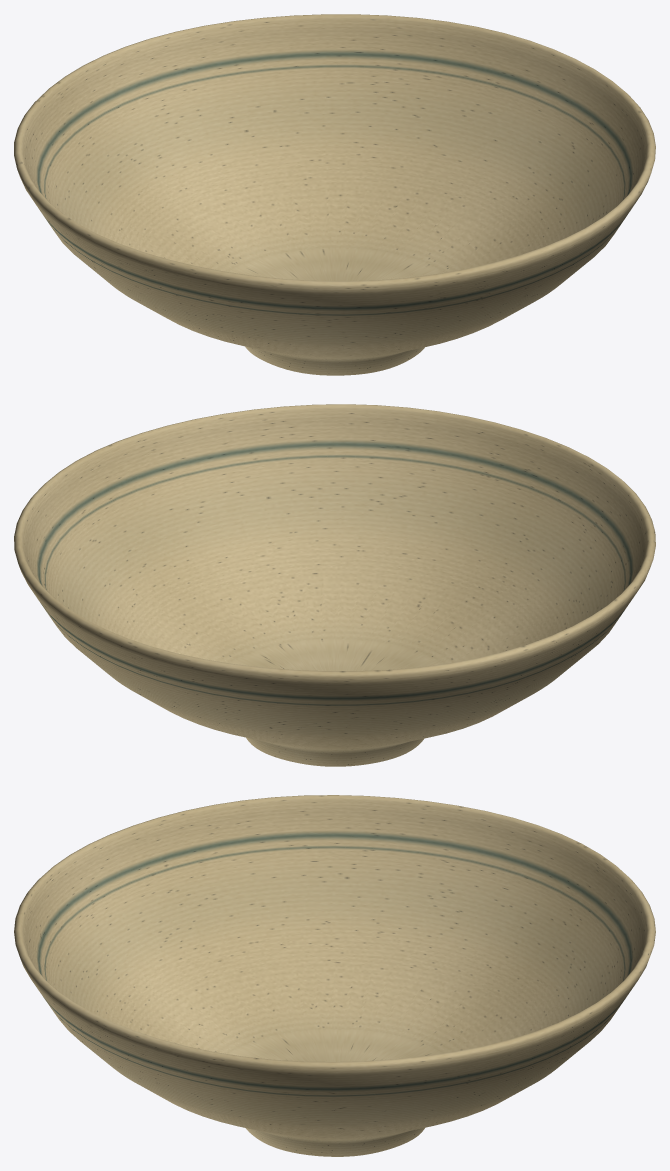
The model's file is B075HWDSDK.glb.
3 views of the same model, one above another, from view 1: azimuth 30°, elevation 25°; view 2: azimuth 150°, elevation 25°; view 3: azimuth 270°, elevation 25° (orthographic).
Visible parts, largest first — view 1: bowl 1; view 2: bowl 1; view 3: bowl 1.
Part boxes in pixels (bbox=[...]): bowl 1: bbox=[14, 14, 655, 375]; bowl 1: bbox=[14, 404, 655, 766]; bowl 1: bbox=[14, 795, 655, 1156].
Bounding box in the file's own units: 2 × 0.651 × 2.
2 materials, 1 textured.
